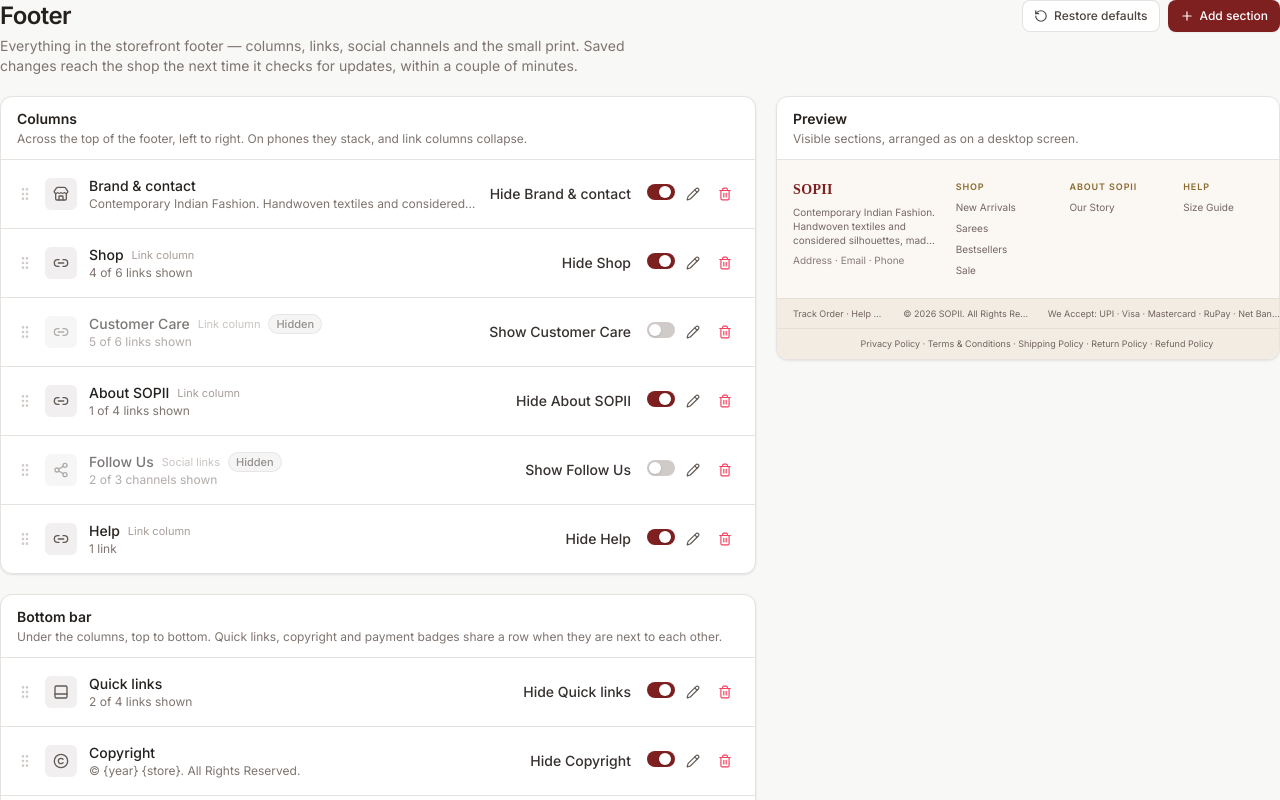
Test: FooterPage › restores the defaults
The image size is (1280, 800).
Click the button "Restore defaults": (1091, 16) [1022,0,1160,32]
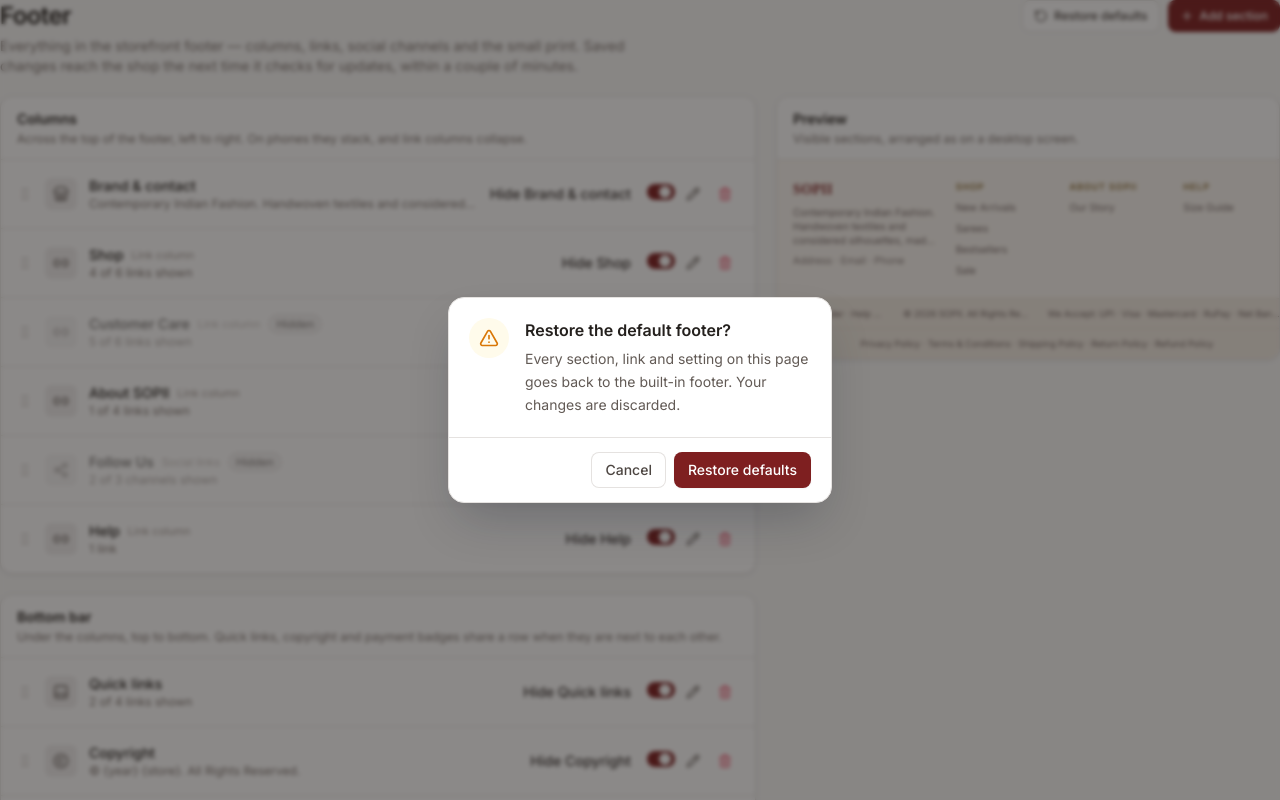
Click the button "Restore defaults": (742, 470) [674,452,811,488]
(page scrolled)
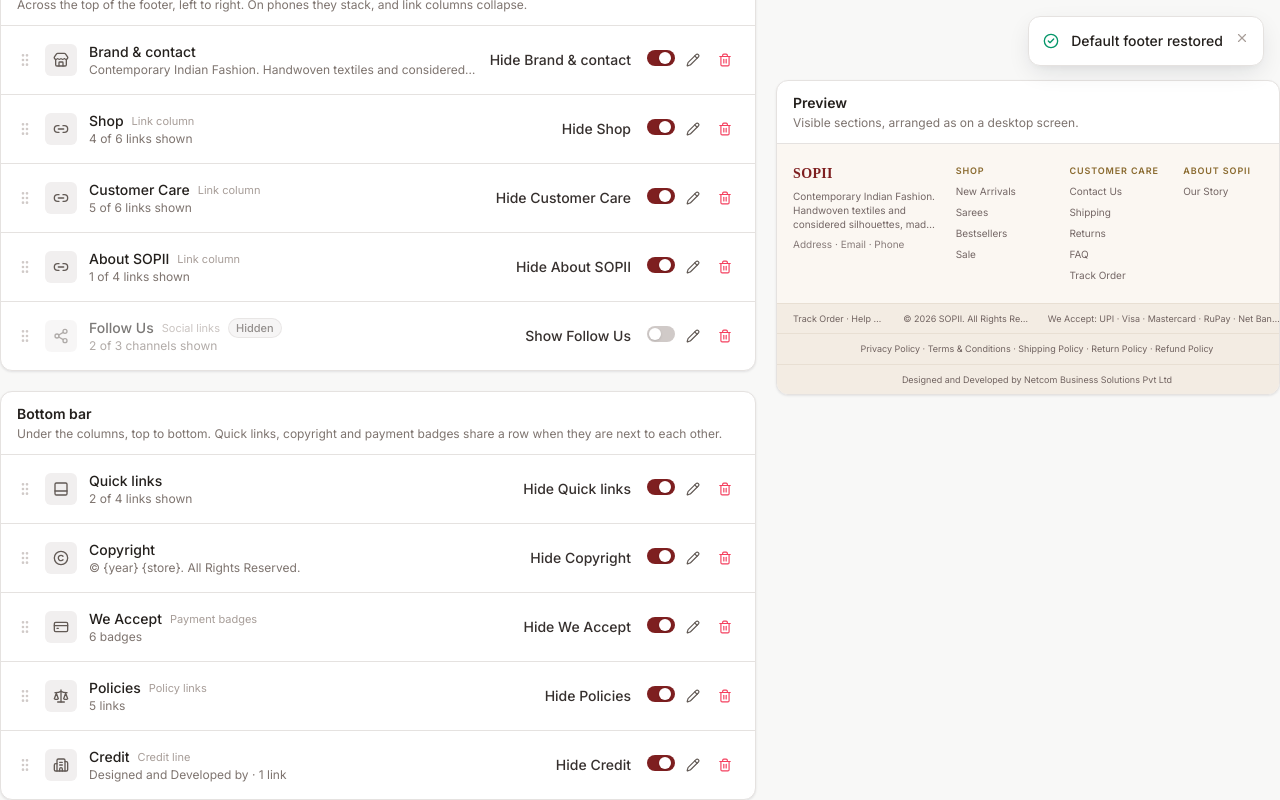
Check: the text "Credit" is shown, box [89,747,130,767]
